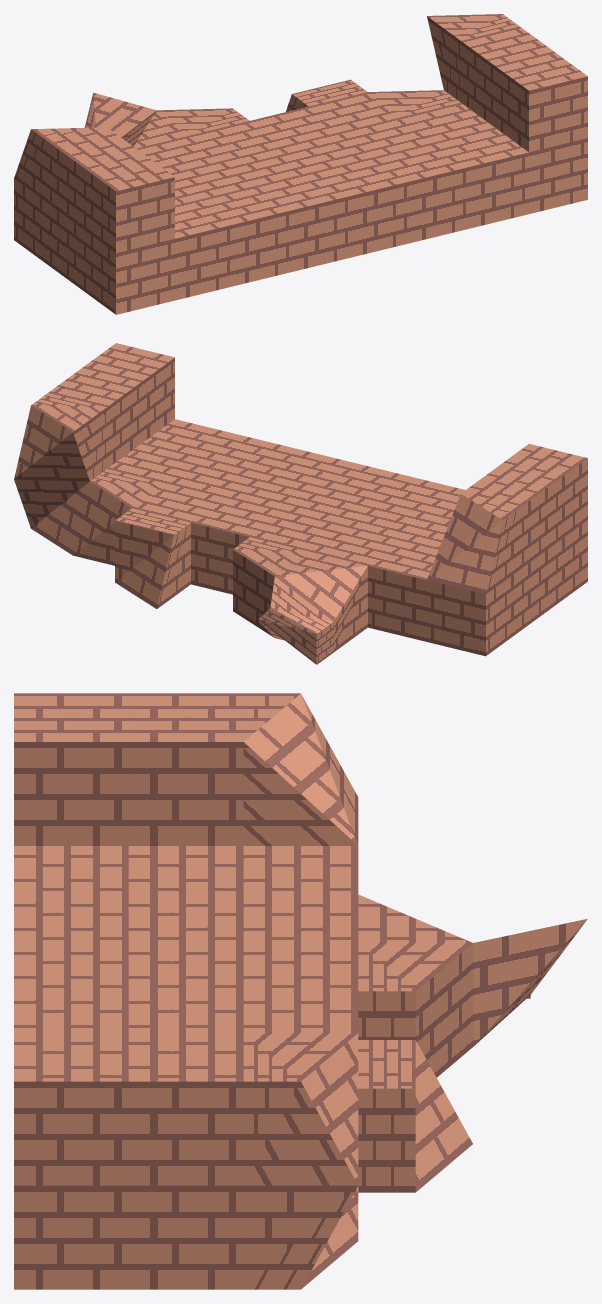
File: Present Bridge.gltf
3 views of the same model, one above another, from view 1: azimuth 30°, elevation 25°; view 2: azimuth 150°, elevation 25°; view 3: azimuth 270°, elevation 25° (orthographic). The views are drawn at different scales.
Bounding box in the file's own units: 8 × 2 × 5.
Materials: 1 (1 with a texture image).
